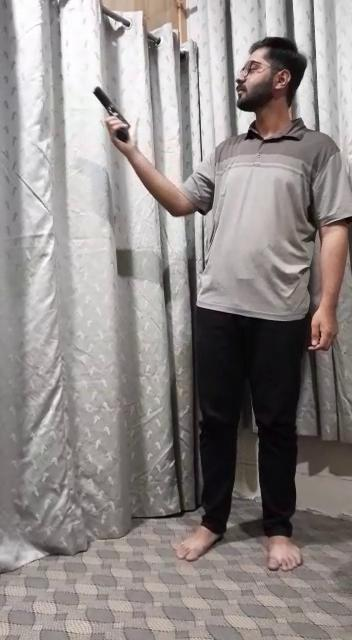criminal: (90, 35, 352, 575)
weapon: (90, 83, 135, 145)
